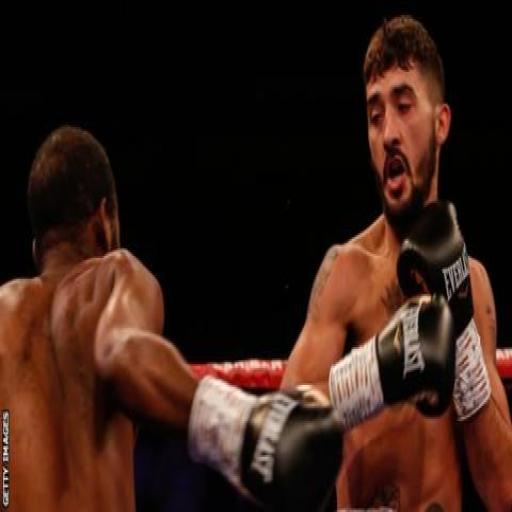boxing: (8, 61, 362, 505)
